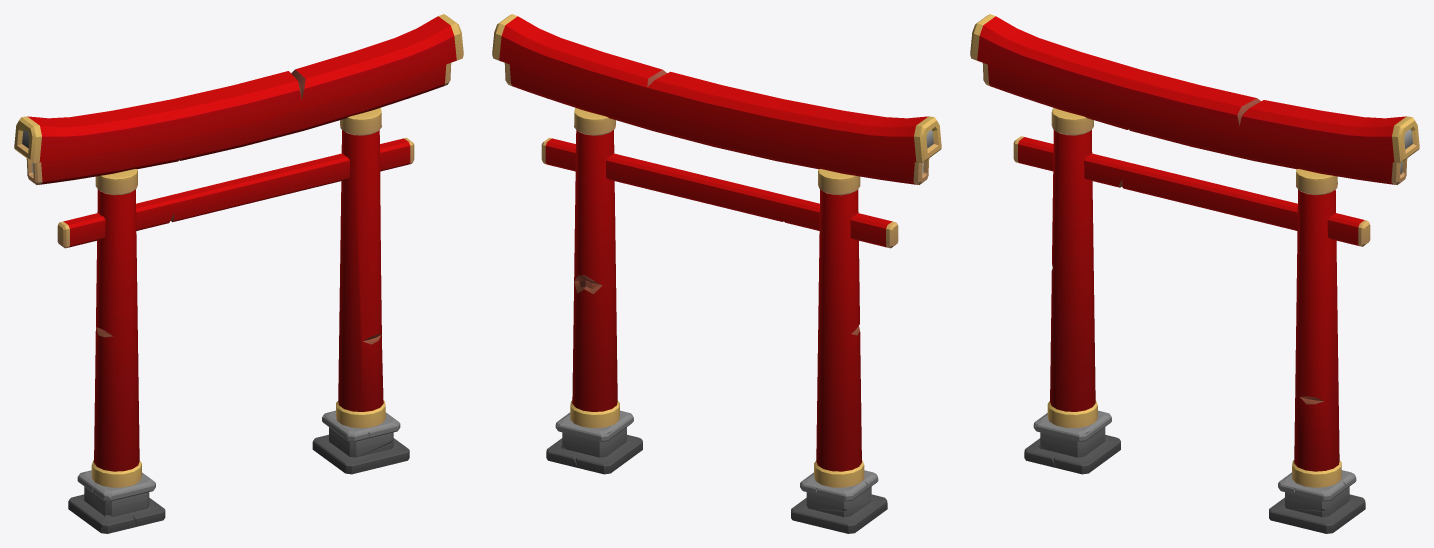
File: torii-2.glb
3 renders of one model, left to right at view 1: azimuth 30°, elevation 25°; view 2: azimuth 150°, elevation 25°; view 3: azimuth 330°, elevation 25°, orthographic.
Parts seen in each view (by area): view 1: Torii2; view 2: Torii2; view 3: Torii2.
Boxes of the visible parts, x1,y1,x2,y2 form: Torii2: (14,14,463,533); Torii2: (492,14,941,533); Torii2: (970,14,1419,533).
Size of the model in its own units: 10.97 by 10 by 1.65.
1 material, 1 textured.
